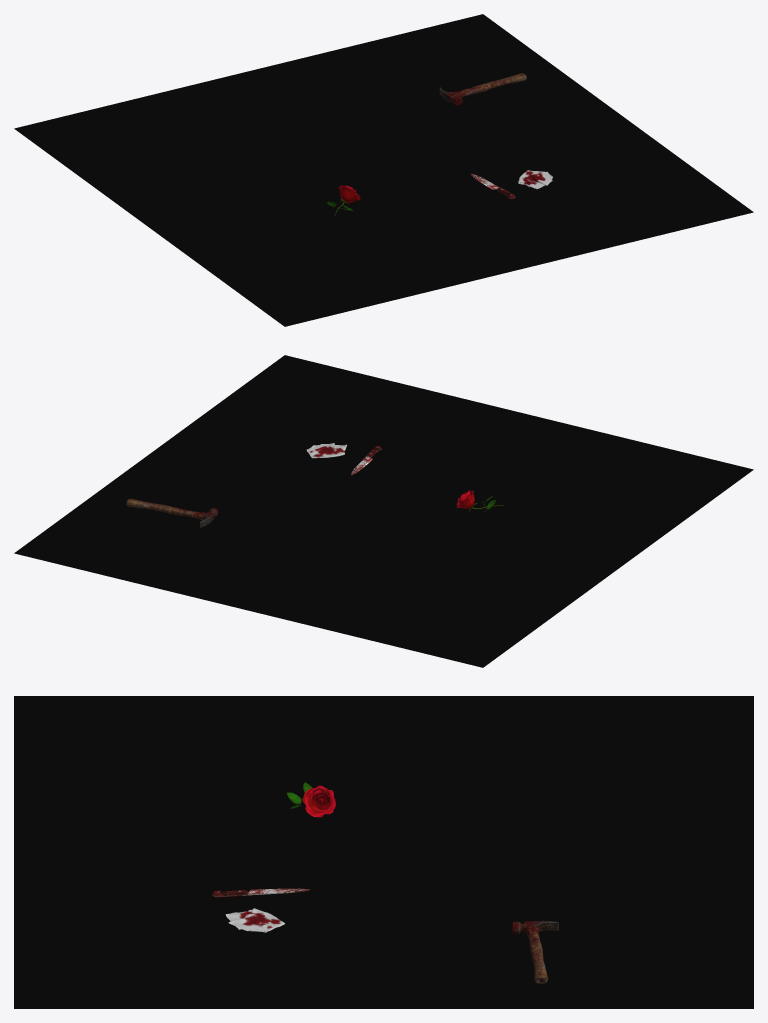
File: murder_scene_final_2.glb
3 views of the same model, one above another, from view 1: azimuth 30°, elevation 25°; view 2: azimuth 150°, elevation 25°; view 3: azimuth 270°, elevation 25° (orthographic). The views are drawn at different scales.
Visible parts, largest first — view 1: Shadow, Hammer; view 2: Shadow, Hammer; view 3: Shadow, Hammer, Rose, handkerchief_lowpoly, Chalk_mark, Knife.
Boxes of the visible parts, bbox=[...] form: Shadow: bbox=[14, 14, 753, 326]; Hammer: bbox=[439, 73, 526, 105]; Shadow: bbox=[14, 355, 753, 667]; Hammer: bbox=[126, 498, 218, 527]; Shadow: bbox=[14, 696, 753, 1008]; Hammer: bbox=[512, 920, 558, 983]; Rose: bbox=[287, 782, 335, 817]; handkerchief_lowpoly: bbox=[225, 908, 284, 932]; Chalk_mark: bbox=[14, 1008, 753, 1008]; Knife: bbox=[212, 888, 310, 898].
Bounding box in the file's own units: 1.5 × 0.0698 × 1.5.
Materials: 6 (6 with a texture image).
